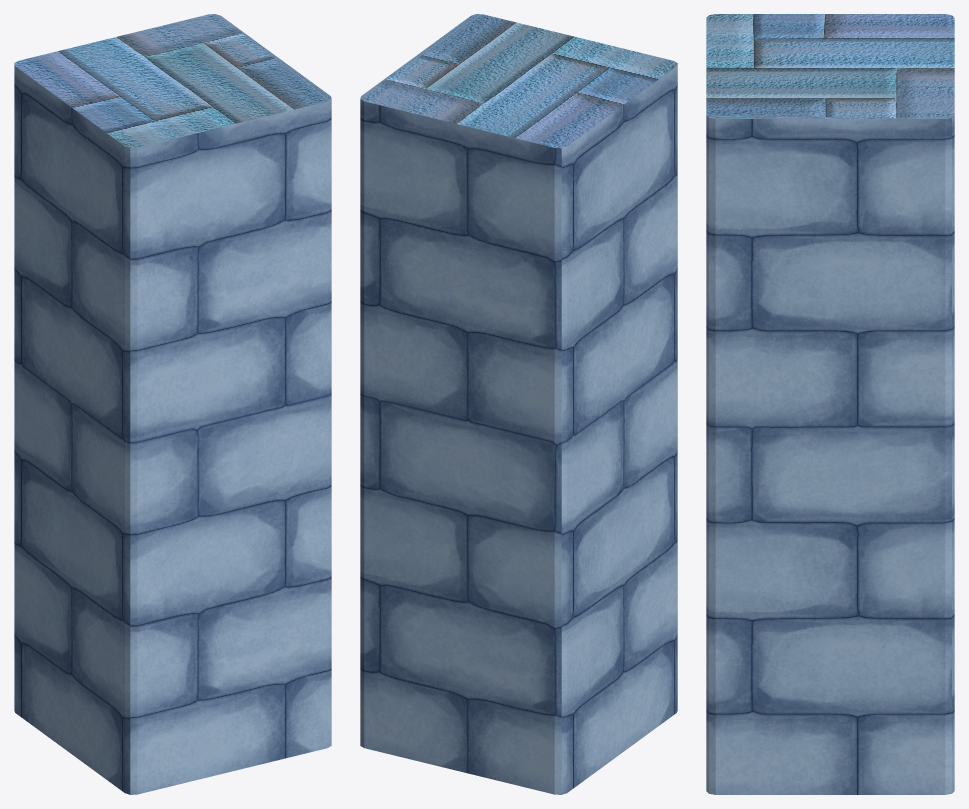
Rendered from middleTowerBase.fbx.
3 renders of one model, left to right at view 1: azimuth 30°, elevation 25°; view 2: azimuth 150°, elevation 25°; view 3: azimuth 270°, elevation 25°, orthographic. The views are drawn at different scales.
Visible parts, largest first — view 1: Cube; view 2: Cube; view 3: Cube.
Part boxes in pixels (x1,y1,x2,y2): Cube: [14, 14, 331, 794]; Cube: [360, 14, 677, 794]; Cube: [706, 14, 954, 794].
Bounding box in the file's own units: 2 × 6 × 2.
